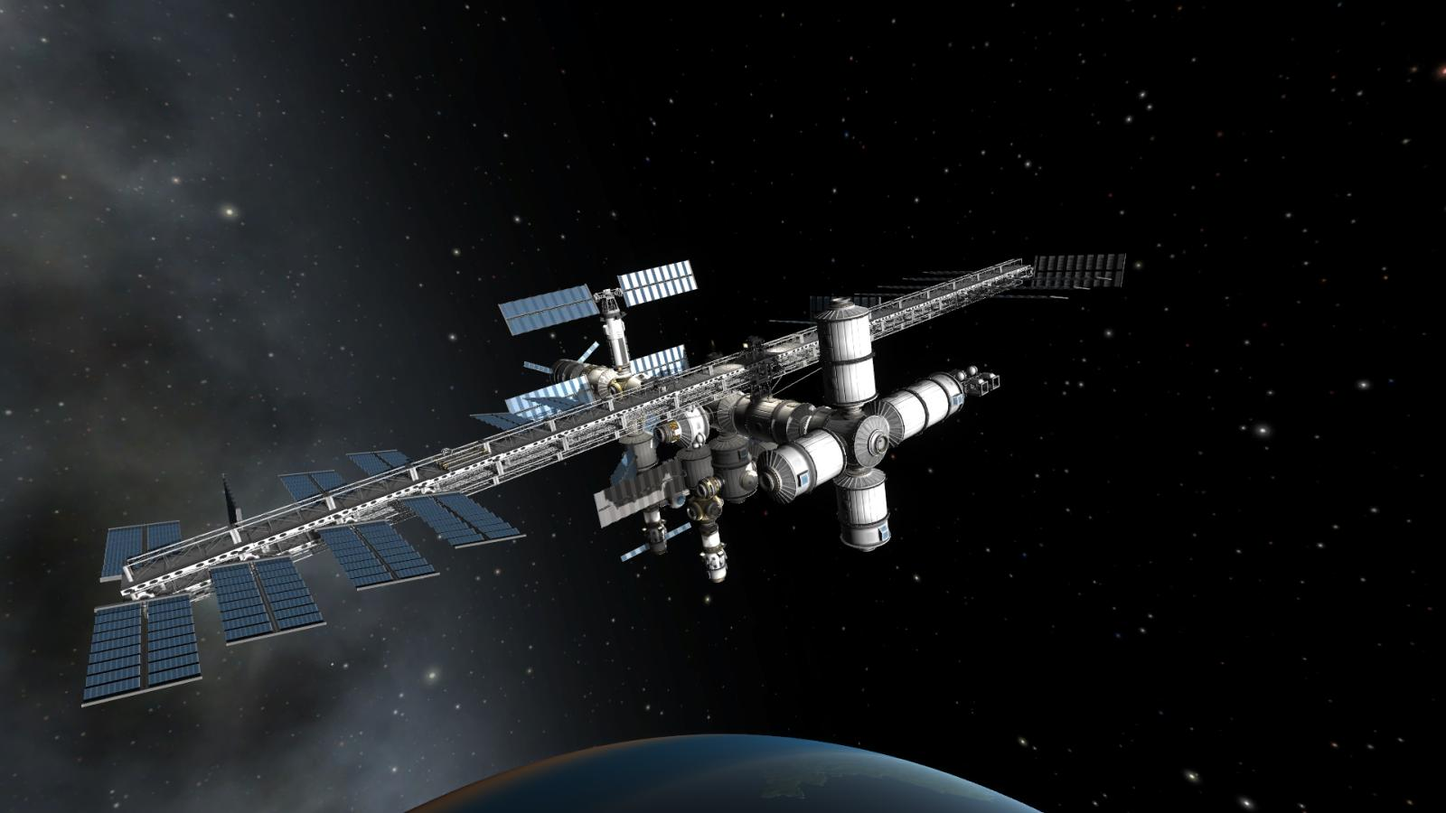body: (594, 296, 988, 585)
solar: (82, 505, 198, 715), (502, 346, 696, 432), (207, 555, 324, 649), (317, 519, 440, 599), (397, 488, 528, 555), (1003, 245, 1133, 297), (498, 279, 602, 342), (620, 260, 701, 306), (277, 457, 344, 510), (343, 445, 412, 477), (463, 409, 525, 439), (216, 475, 242, 522), (666, 521, 693, 543), (620, 541, 652, 558)
